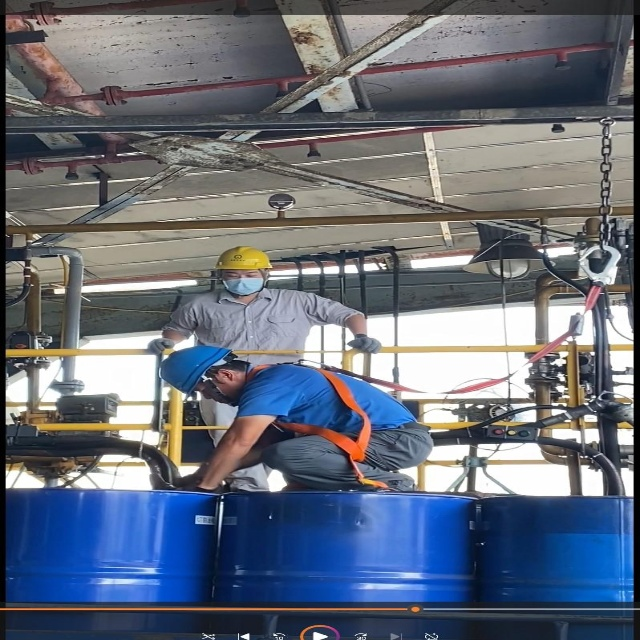Arnes_seguridad: (235, 363, 396, 492)
